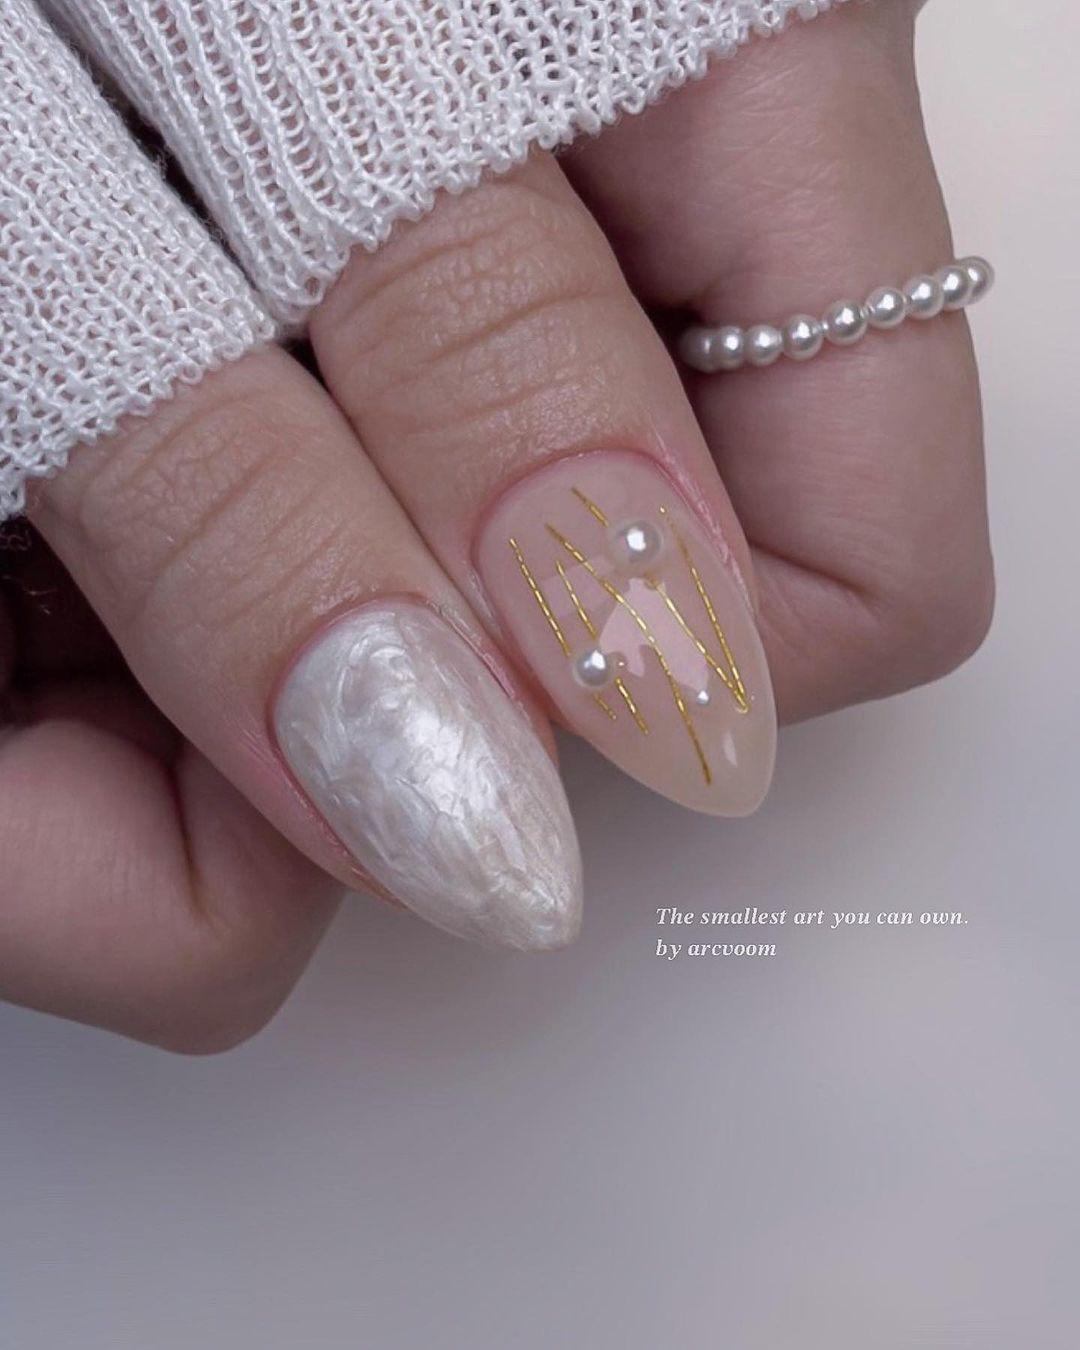nail: (467, 443, 779, 819), (266, 592, 585, 954)
